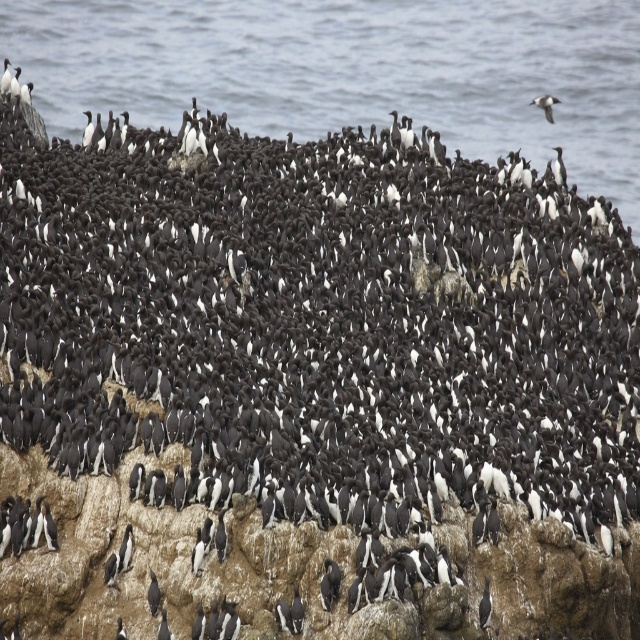Penguin: (0, 92, 640, 561), (349, 525, 471, 612), (0, 495, 56, 561), (288, 588, 306, 637), (530, 92, 559, 122), (212, 595, 231, 639), (118, 525, 134, 576), (213, 512, 229, 562), (143, 575, 159, 623), (191, 523, 207, 567), (318, 571, 335, 612), (550, 147, 566, 189), (275, 602, 293, 639), (200, 515, 215, 555), (102, 552, 117, 589), (192, 602, 207, 639), (326, 552, 339, 593), (482, 579, 492, 632), (225, 609, 242, 639), (155, 608, 170, 639), (0, 52, 10, 93), (205, 600, 215, 639), (10, 67, 21, 102), (83, 109, 93, 145), (21, 79, 33, 104), (117, 619, 130, 639)
